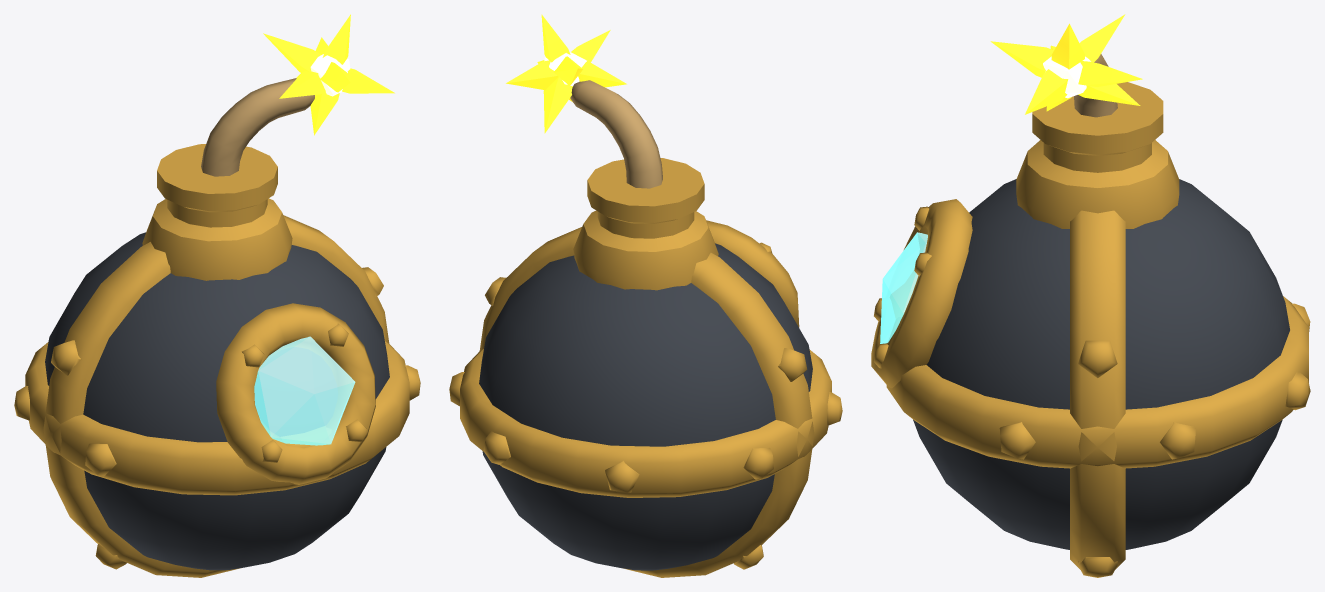
File: item_spark_bomb.glb
The picture shows the model from 3 angles, left to right: view 1: azimuth 30°, elevation 25°; view 2: azimuth 150°, elevation 25°; view 3: azimuth 270°, elevation 25°; orthographic projection. The views are drawn at different scales.
Visible parts, largest first — view 1: SparkBomb; view 2: SparkBomb; view 3: SparkBomb.
Boxes of the visible parts, x1,y1,x2,y2 form: SparkBomb: (14,14,420,577); SparkBomb: (449,14,842,577); SparkBomb: (871,14,1310,577).
Bounding box in the file's own units: 0.184 × 0.2811 × 0.1894.
